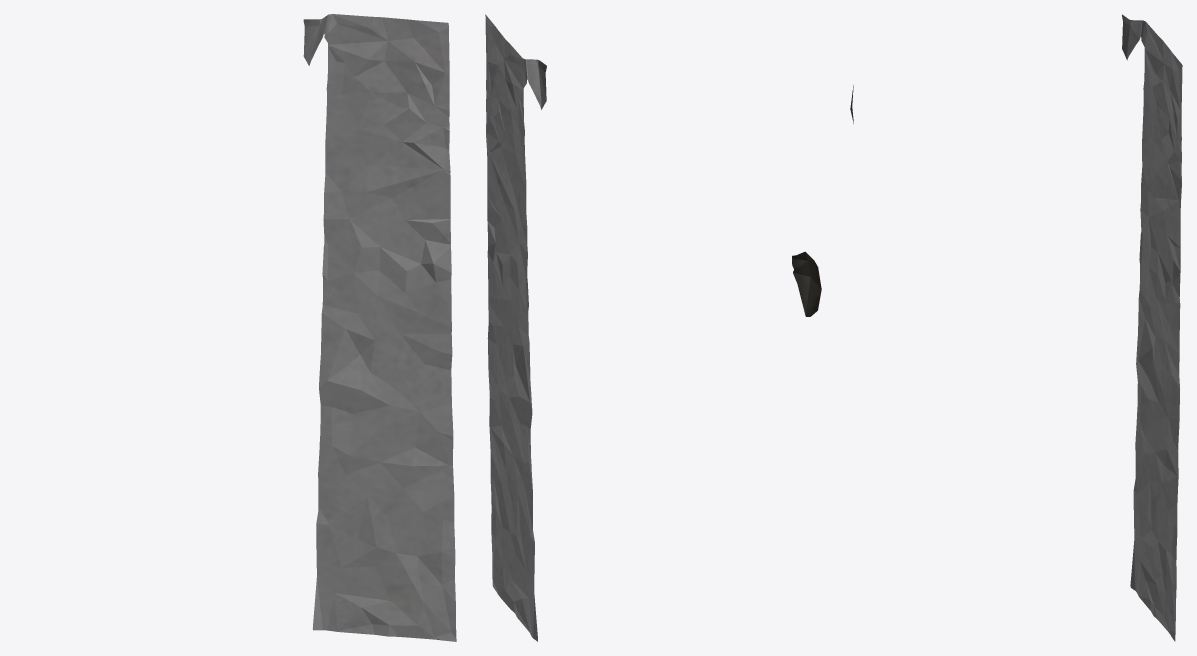
3 views of the same model, side by side, from view 1: azimuth 30°, elevation 25°; view 2: azimuth 150°, elevation 25°; view 3: azimuth 330°, elevation 25° (orthographic). The views are drawn at different scales.
Bounding box in the file's own units: 0.5637 × 0.8374 × 0.1188.
1 material, 1 textured.
